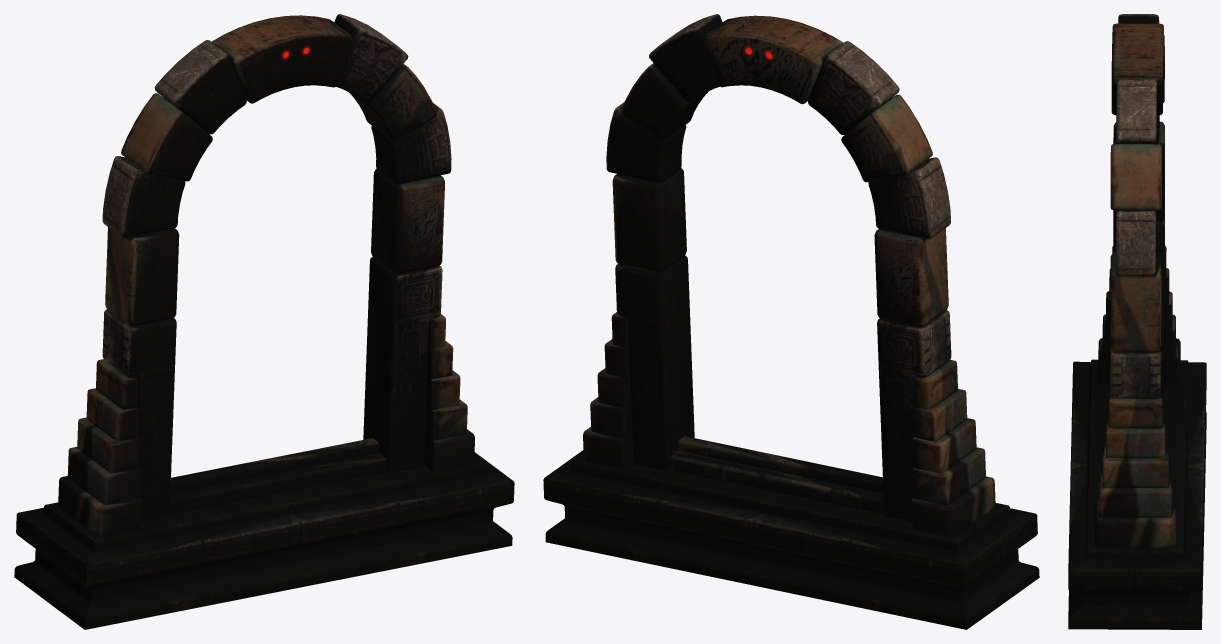
Rendered from portal.glb.
3 views of the same model, side by side, from view 1: azimuth 30°, elevation 25°; view 2: azimuth 150°, elevation 25°; view 3: azimuth 270°, elevation 25° (orthographic). The views are drawn at different scales.
Parts seen in each view (by area): view 1: Portal; view 2: Portal; view 3: Portal.
Boxes of the visible parts, bbox=[...] form: Portal: bbox=[14, 14, 514, 629]; Portal: bbox=[543, 14, 1039, 629]; Portal: bbox=[1068, 14, 1206, 629].
Bounding box in the file's own units: 4.62 × 5.54 × 1.39.
Materials: 1 (1 with a texture image).
